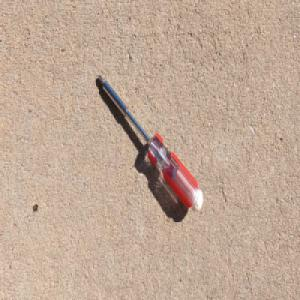Screwdriver: (96, 72, 204, 214)
